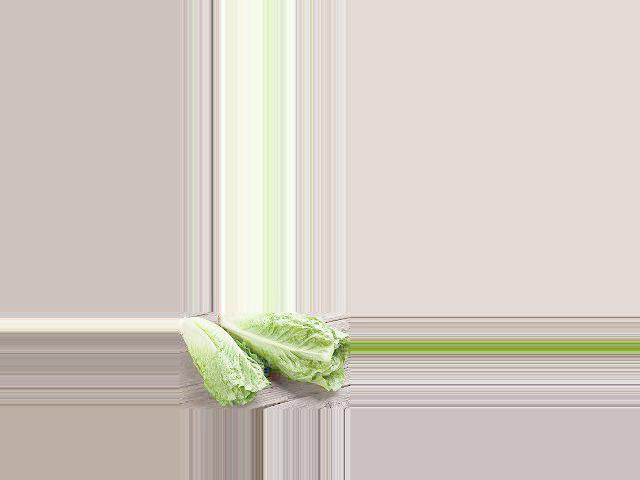lettuce: (177, 312, 348, 407)
